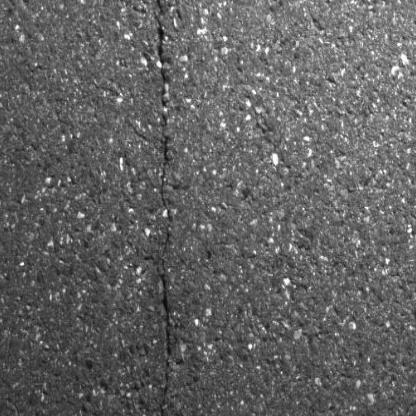Cracks: (152, 0, 179, 414)
